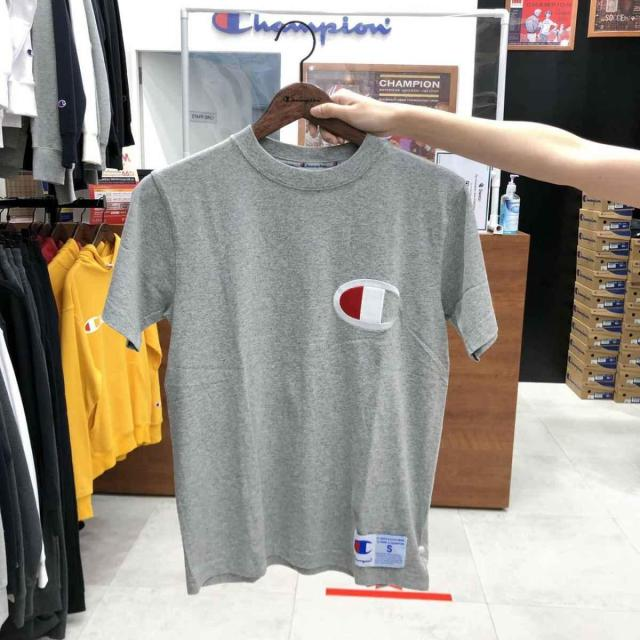Tshirt: (110, 123, 492, 589)
